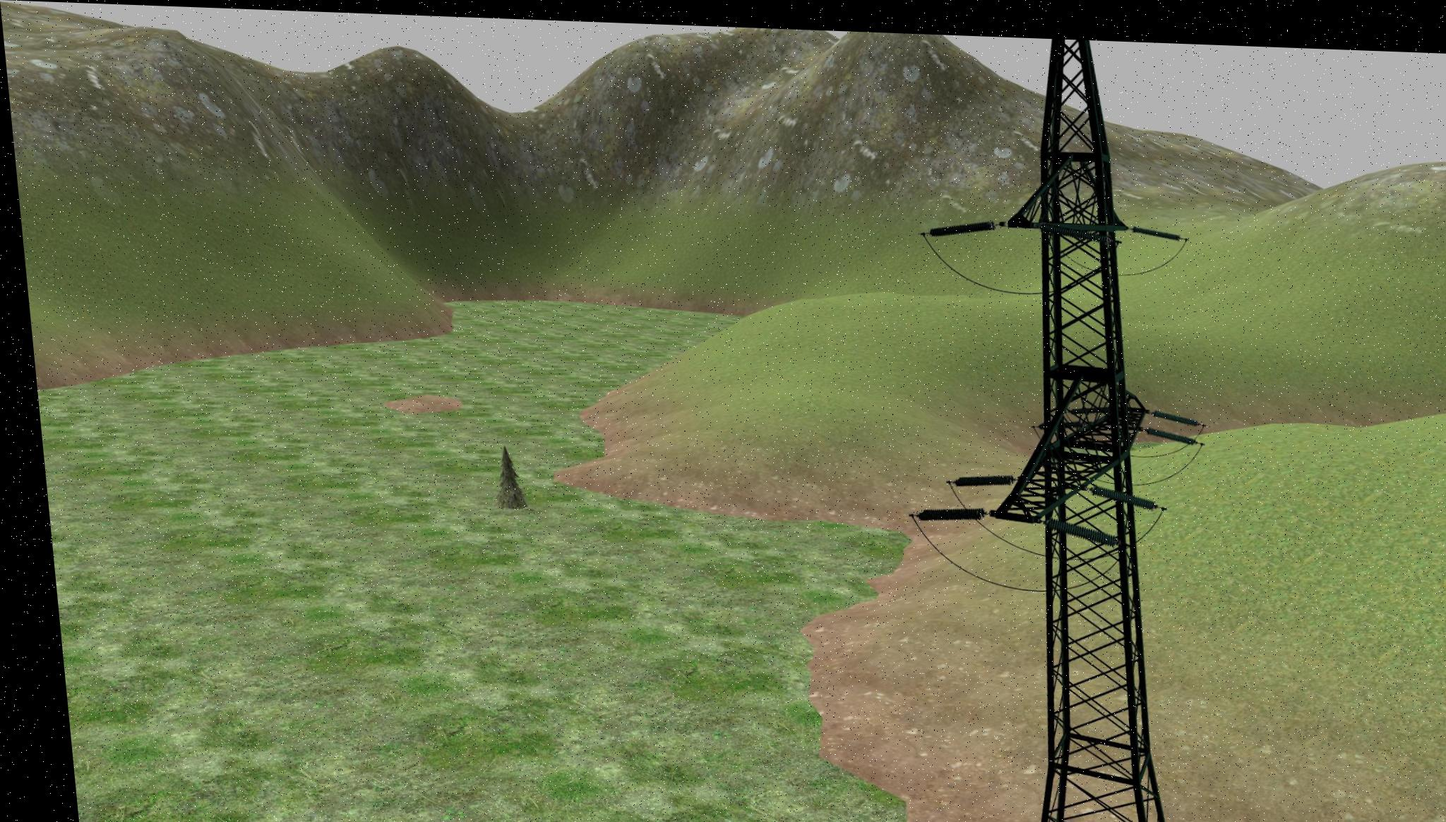tower: (955, 35, 1199, 822)
